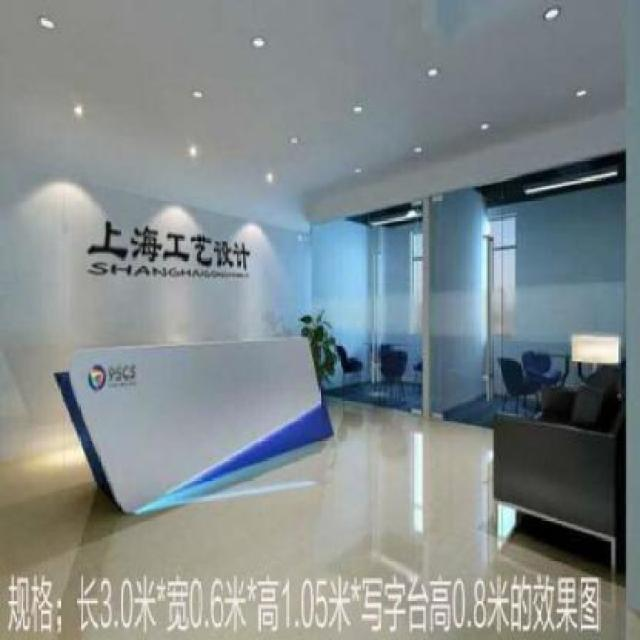frontdesk: (37, 325, 342, 522)
